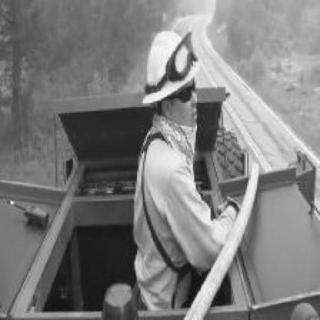other: (78, 21, 244, 315)
